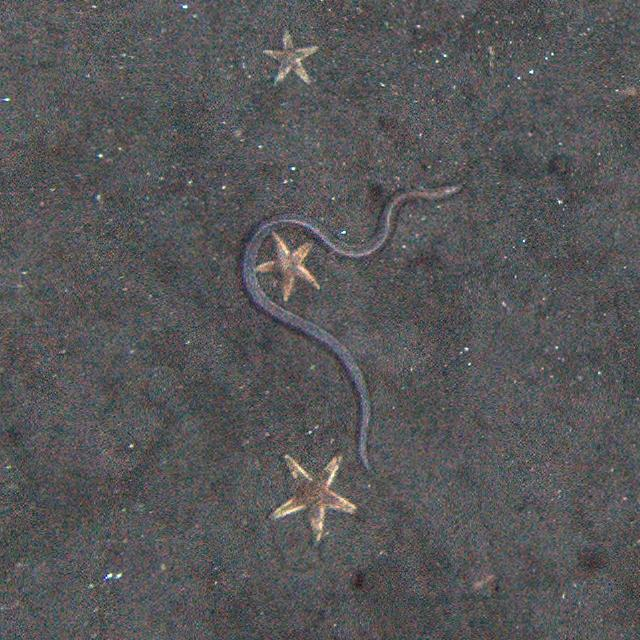eel: (233, 182, 468, 478)
